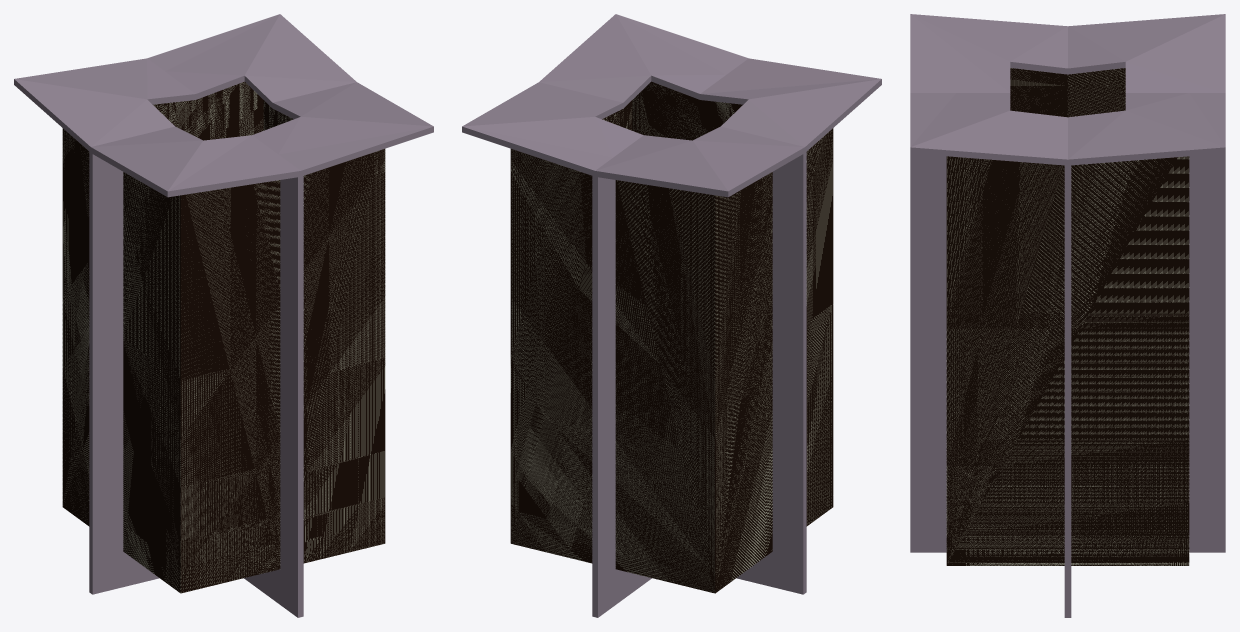
The picture shows the model from 3 angles, left to right: view 1: azimuth 30°, elevation 25°; view 2: azimuth 150°, elevation 25°; view 3: azimuth 270°, elevation 25°; orthographic projection. The views are drawn at different scales.
Visible parts, largest first — view 1: mesh5.001_mesh5-geometry, mesh1.001_mesh1-geometry, mesh3.001_mesh3-geometry; view 2: mesh5.001_mesh5-geometry, mesh1.001_mesh1-geometry, mesh3.001_mesh3-geometry; view 3: mesh5.001_mesh5-geometry, mesh1.001_mesh1-geometry, mesh3.001_mesh3-geometry.
Boxes of the visible parts, bbox=[...] form: mesh5.001_mesh5-geometry: bbox=[62, 81, 385, 593]; mesh1.001_mesh1-geometry: bbox=[14, 14, 433, 197]; mesh3.001_mesh3-geometry: bbox=[89, 150, 303, 617]; mesh5.001_mesh5-geometry: bbox=[510, 81, 833, 593]; mesh1.001_mesh1-geometry: bbox=[462, 14, 881, 197]; mesh3.001_mesh3-geometry: bbox=[592, 150, 806, 617]; mesh5.001_mesh5-geometry: bbox=[946, 68, 1189, 565]; mesh1.001_mesh1-geometry: bbox=[910, 14, 1225, 165]; mesh3.001_mesh3-geometry: bbox=[910, 153, 1225, 617].
Bounding box in the file's own units: 0.4609 × 0.7584 × 0.4609.
